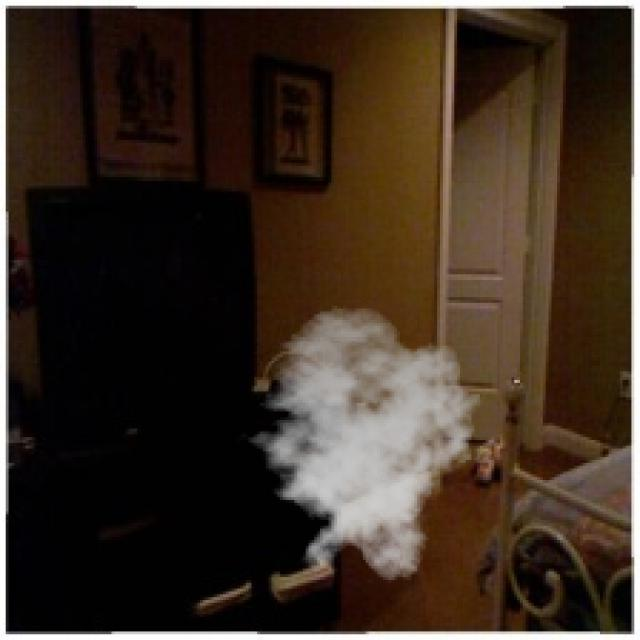smoke: (237, 306, 489, 583)
